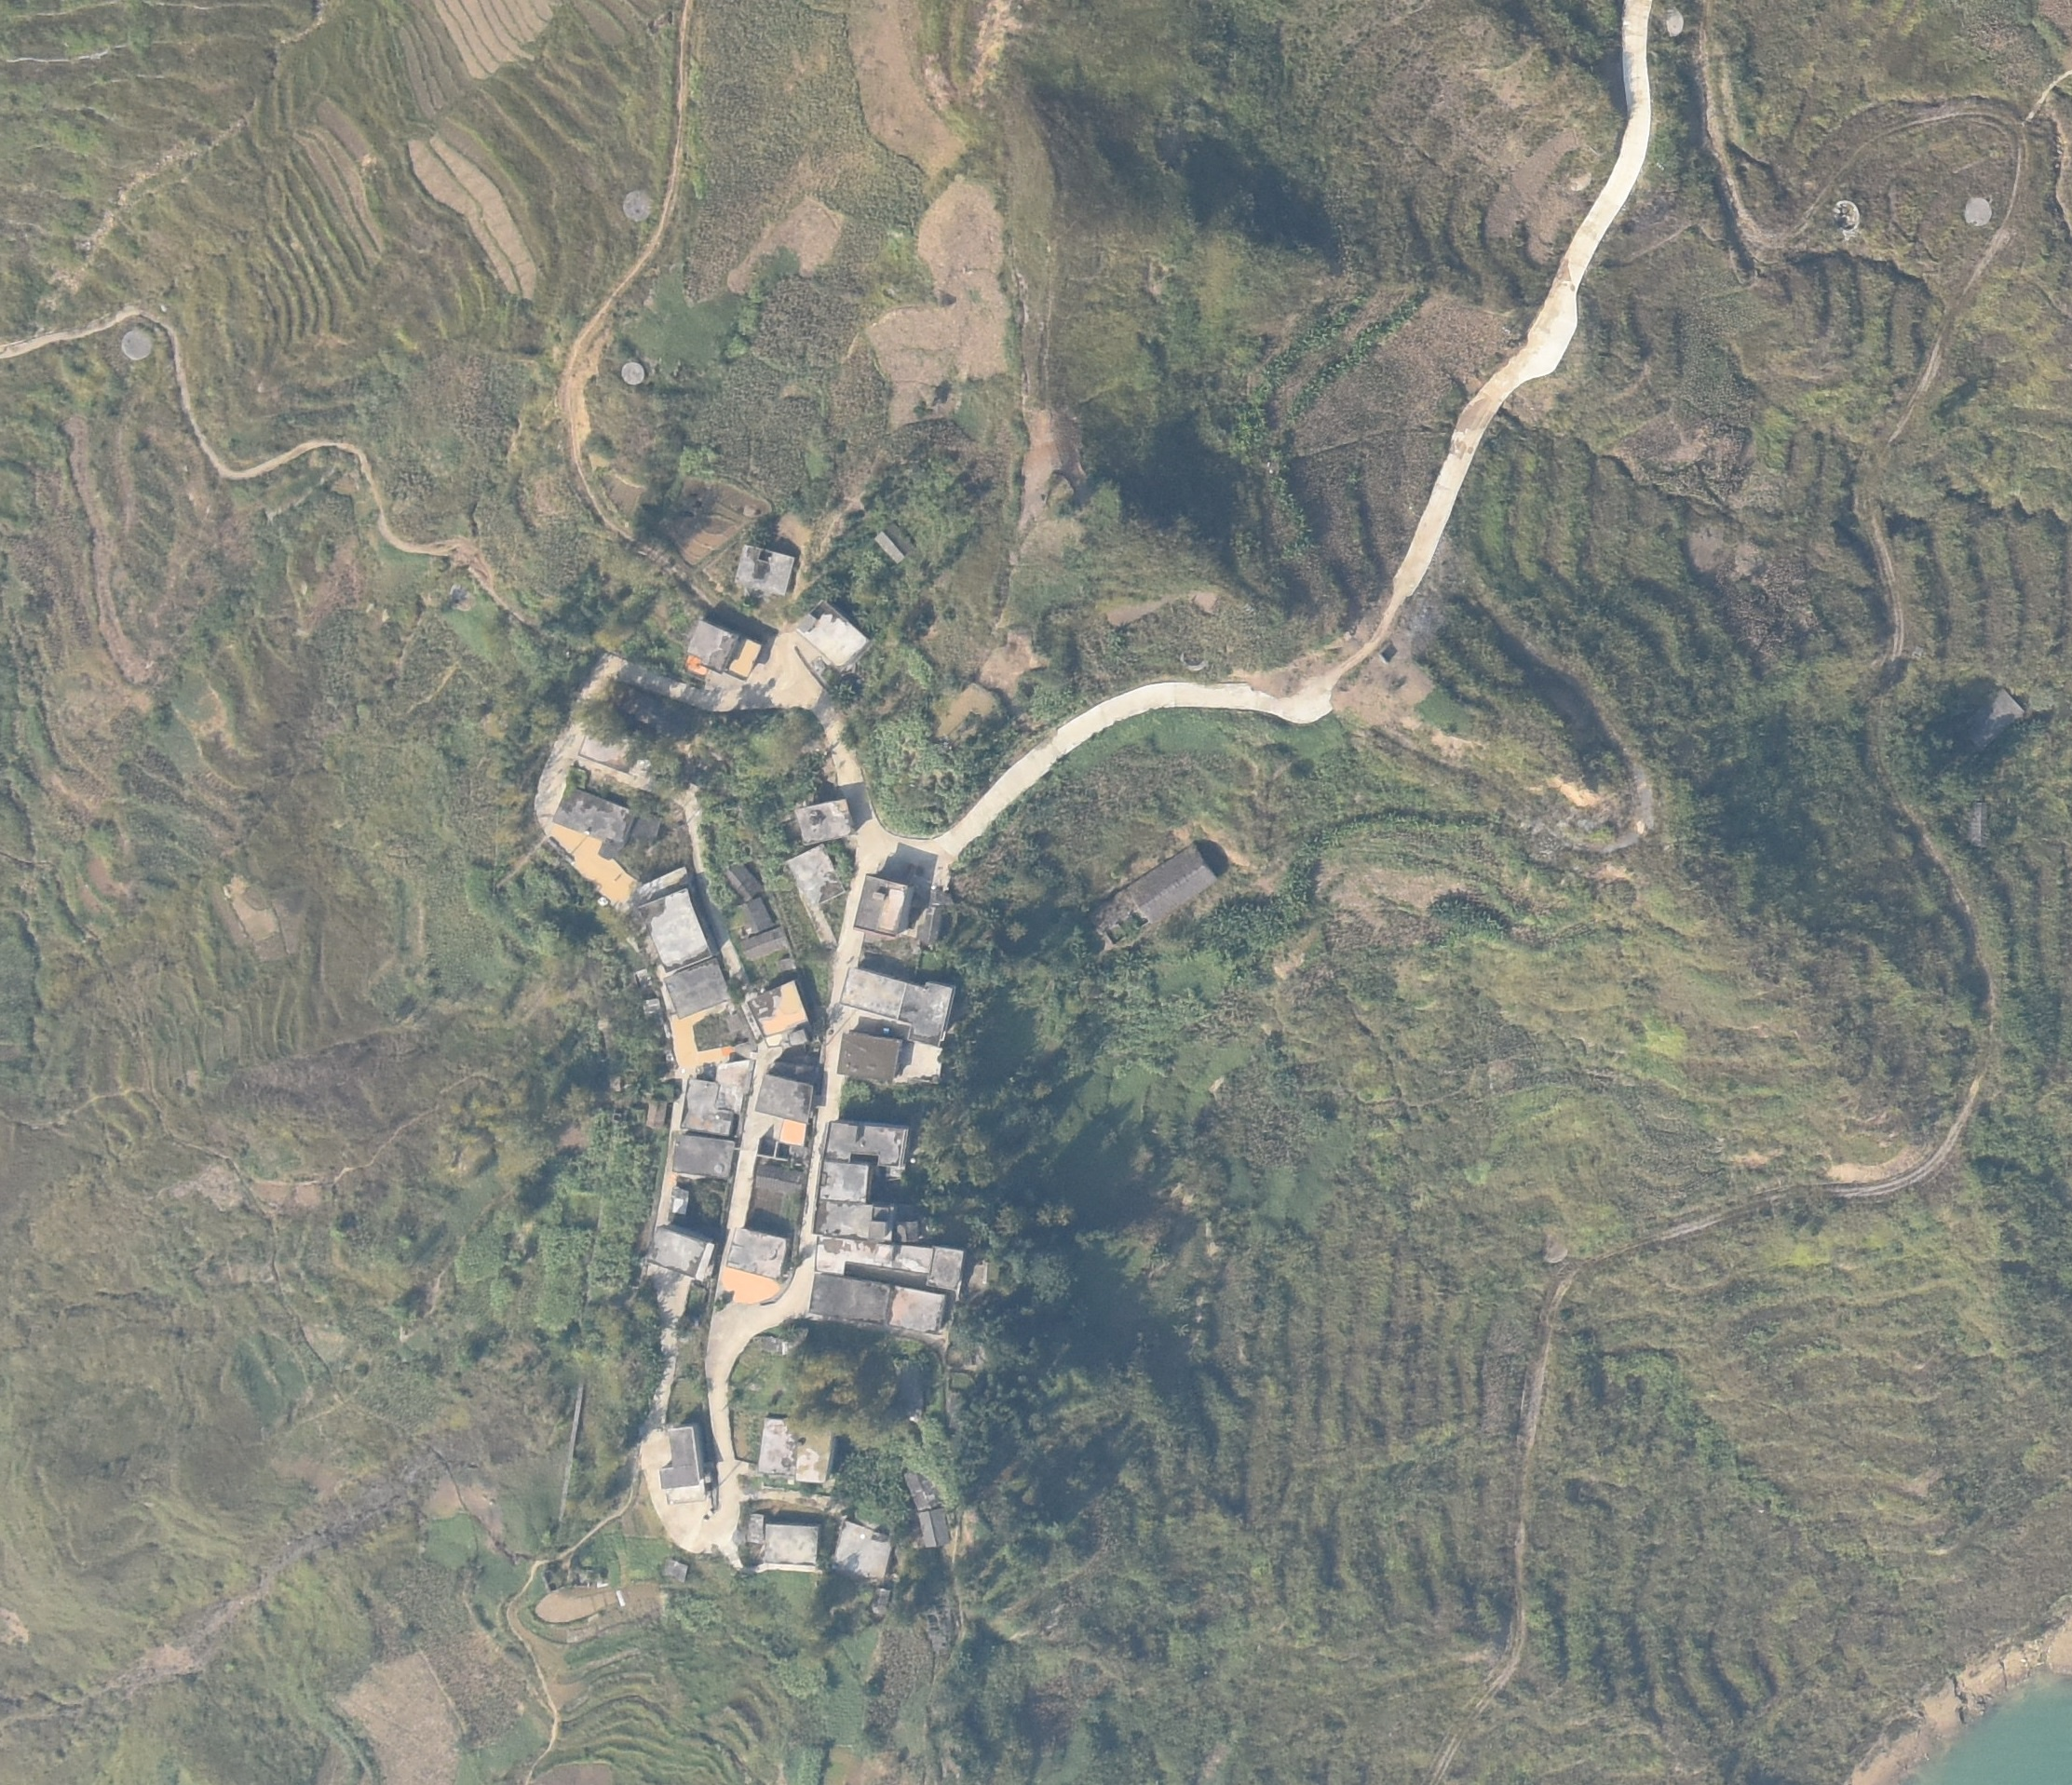building: (839, 964, 955, 1040), (631, 867, 712, 969), (814, 1233, 964, 1288), (810, 1272, 946, 1332), (1129, 841, 1216, 927), (786, 846, 847, 946), (796, 601, 872, 673), (685, 1055, 752, 1137), (759, 1417, 835, 1485), (557, 784, 641, 842), (1956, 684, 2024, 751), (744, 980, 809, 1047), (744, 1514, 819, 1570), (689, 624, 761, 682), (647, 1221, 712, 1283), (655, 959, 726, 1015), (721, 865, 779, 930), (906, 1468, 951, 1549), (821, 1119, 907, 1161), (837, 1033, 906, 1084), (832, 1522, 892, 1581), (853, 874, 907, 936), (726, 1230, 789, 1283), (735, 539, 791, 596), (671, 1130, 736, 1177), (756, 1071, 814, 1124), (659, 1422, 705, 1489), (812, 1202, 899, 1237), (795, 798, 853, 841), (818, 1161, 869, 1200), (872, 525, 916, 562), (1965, 804, 1996, 851), (744, 929, 788, 959), (754, 1165, 802, 1191), (777, 1121, 809, 1144)
well: (1653, 5, 1686, 41), (1961, 196, 1996, 229), (624, 190, 654, 222), (120, 330, 153, 358), (622, 361, 643, 386)
